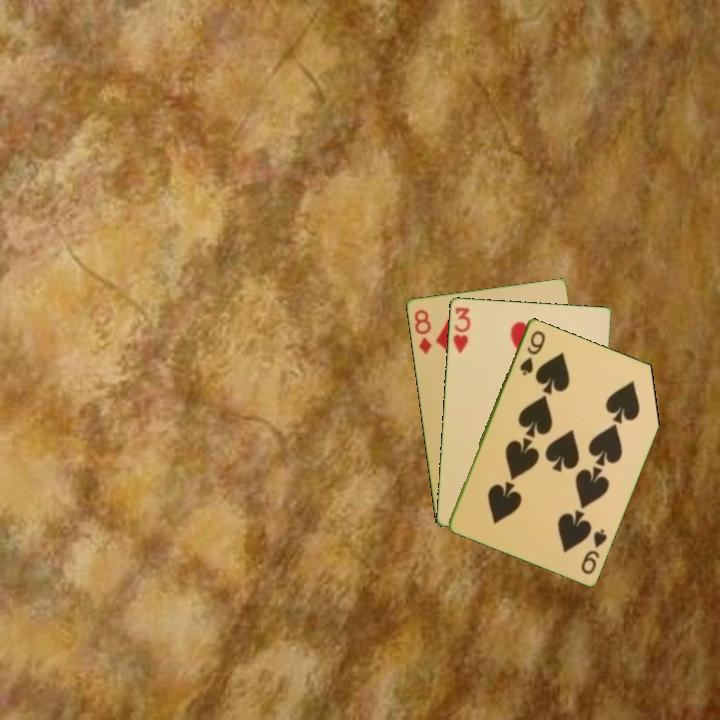3h: (449, 304, 473, 356)
8d: (410, 305, 434, 357)
9s: (577, 525, 610, 577), (516, 327, 548, 378)
